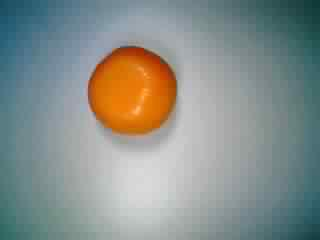orange: (84, 41, 180, 137)
